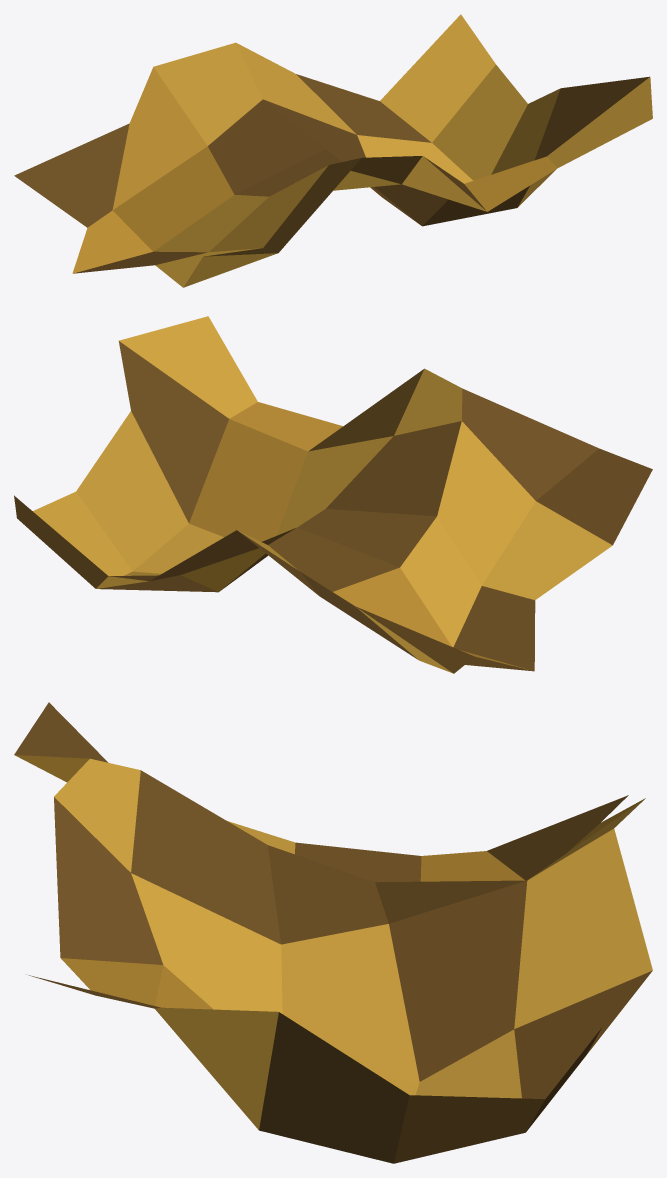
Rendered from deb-mli-01.obj.
The picture shows the model from 3 angles, top to bottom: view 1: azimuth 30°, elevation 25°; view 2: azimuth 150°, elevation 25°; view 3: azimuth 270°, elevation 25°; orthographic projection. The views are drawn at different scales.
Visible parts, largest first — view 1: deb-mli-01; view 2: deb-mli-01; view 3: deb-mli-01.
Boxes of the visible parts, bbox=[...] form: deb-mli-01: bbox=[14, 14, 652, 287]; deb-mli-01: bbox=[14, 316, 652, 673]; deb-mli-01: bbox=[14, 702, 652, 1163].
Bounding box in the file's own units: 0.845 × 0.2617 × 0.6278.
